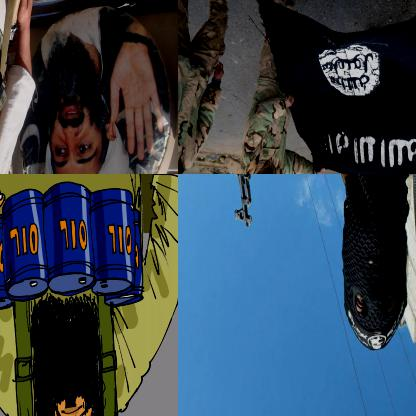rifle: (213, 174, 277, 233)
